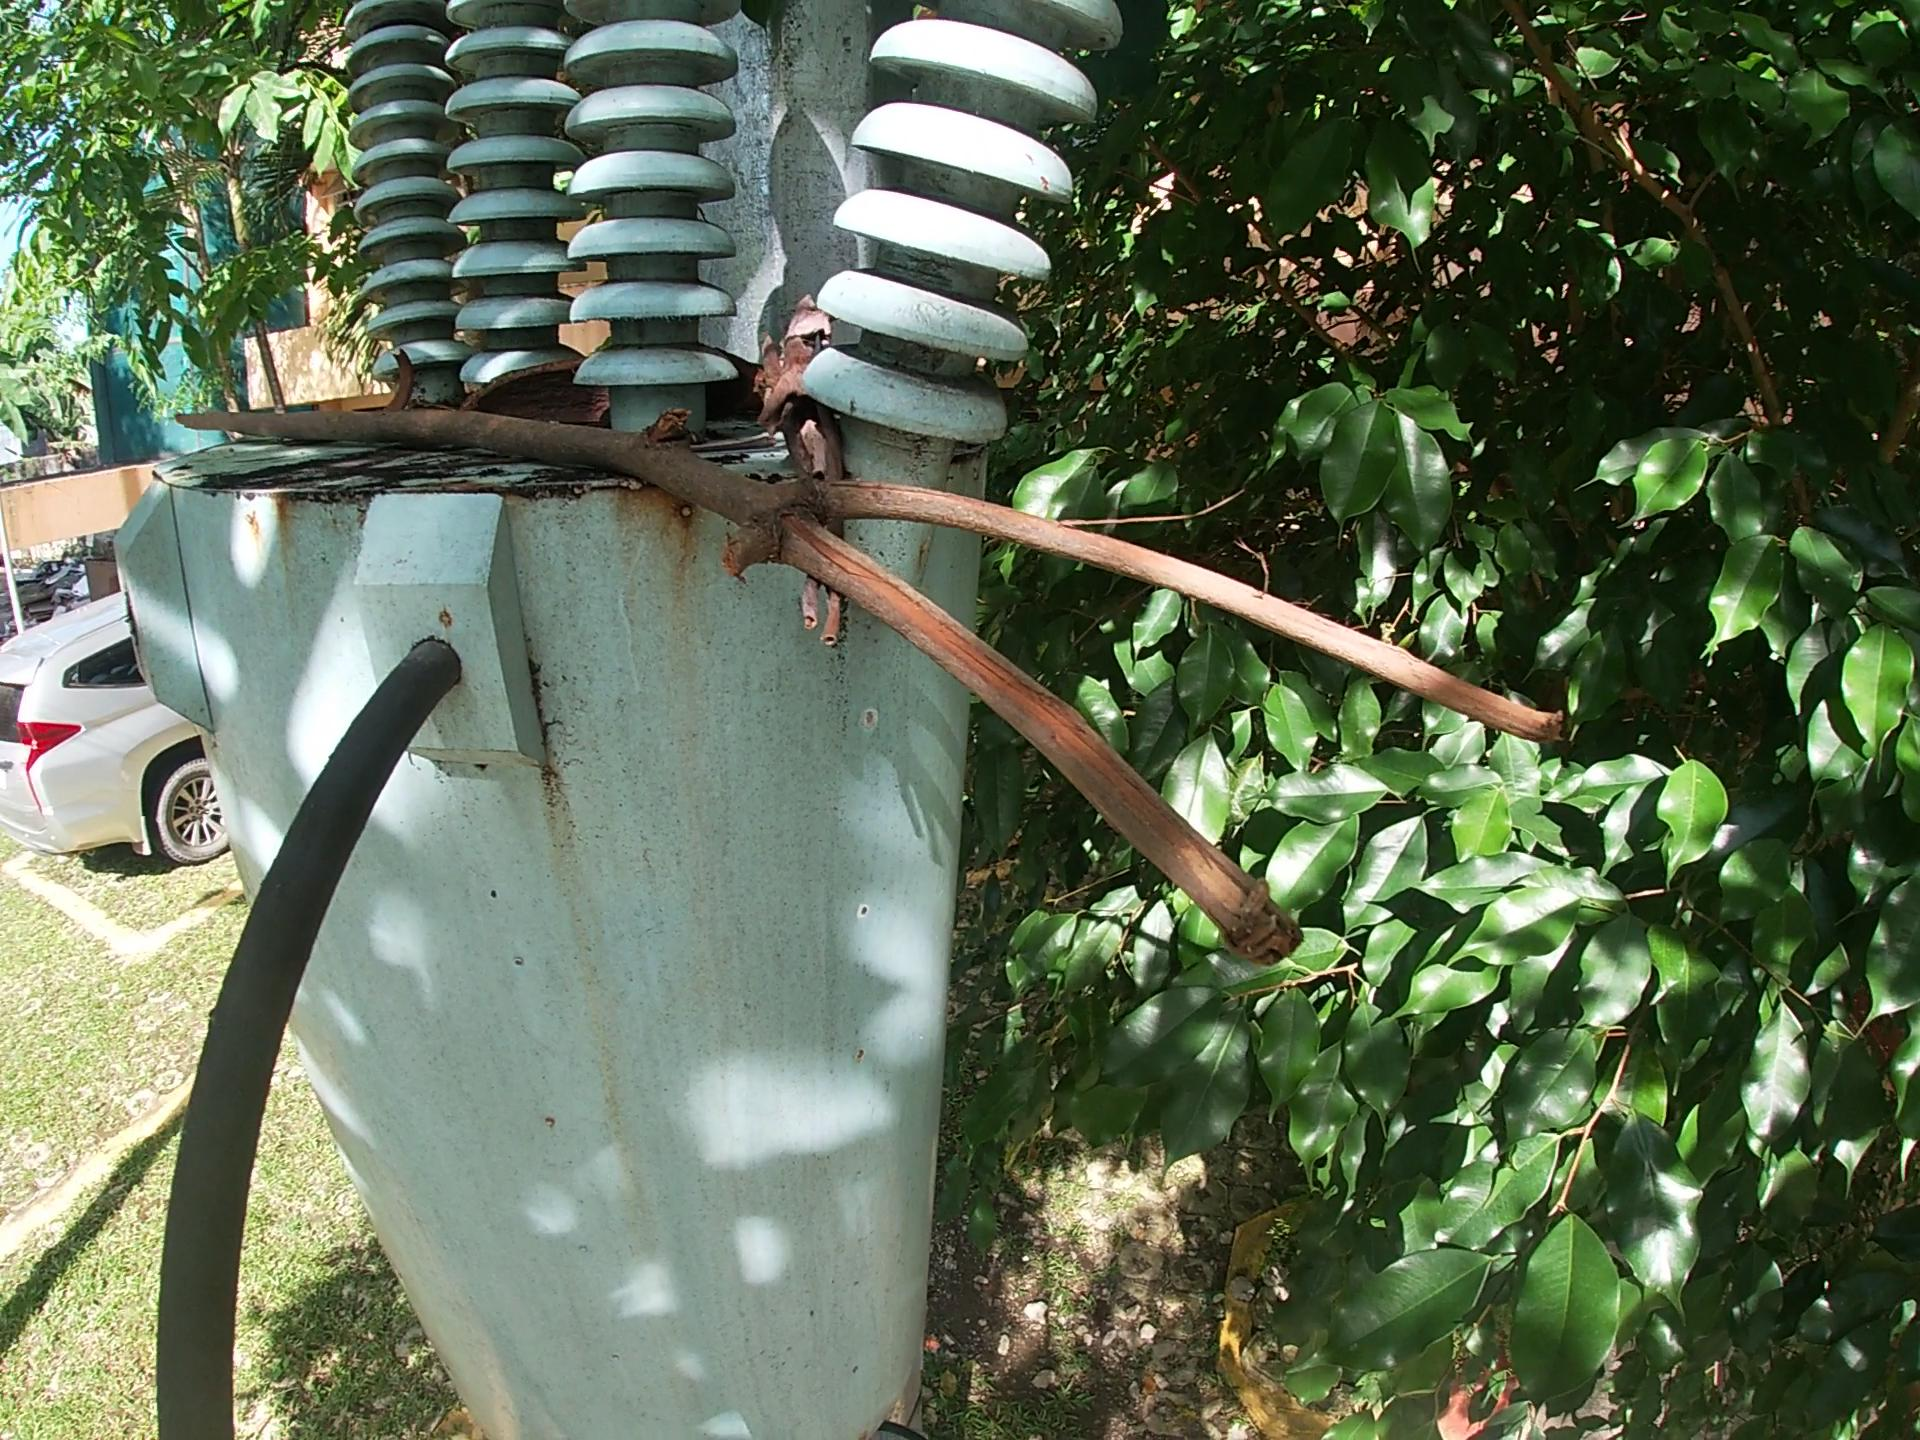mahogany fruit: (466, 336, 763, 439), (376, 346, 423, 408)
tree branch: (165, 395, 1584, 982), (745, 290, 856, 658)
